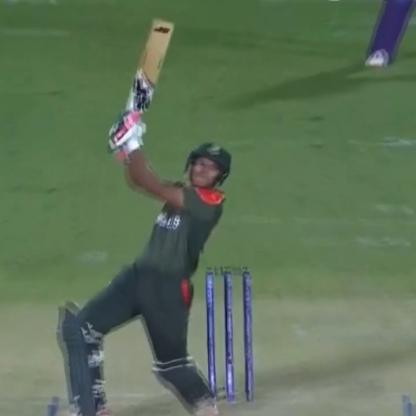bat: (120, 16, 176, 124)
